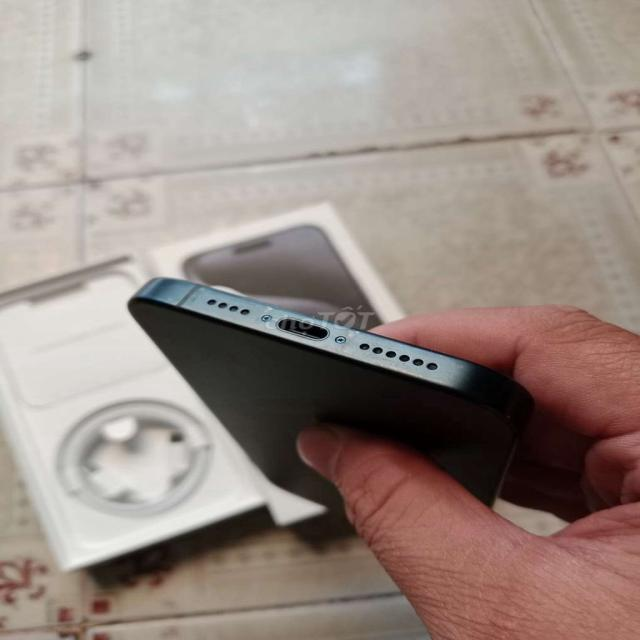gen_15: (112, 274, 520, 540)
